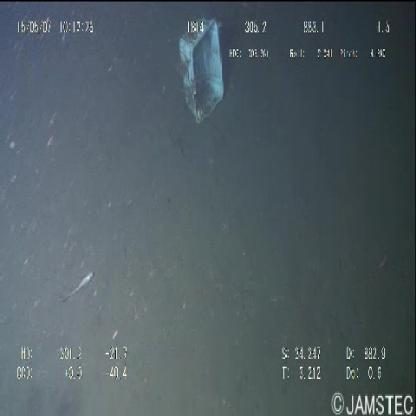Rác: (178, 17, 225, 125)
